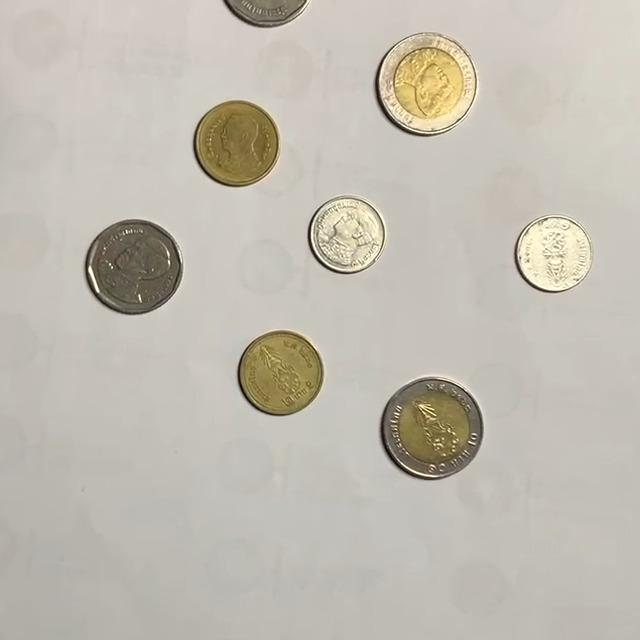1-baht: (515, 215, 596, 294), (309, 197, 388, 275)
10-baht: (375, 30, 479, 134), (381, 377, 486, 479)
2-baht: (194, 100, 281, 187), (238, 331, 325, 416)
5-baht: (85, 219, 184, 314), (218, 0, 317, 28)
